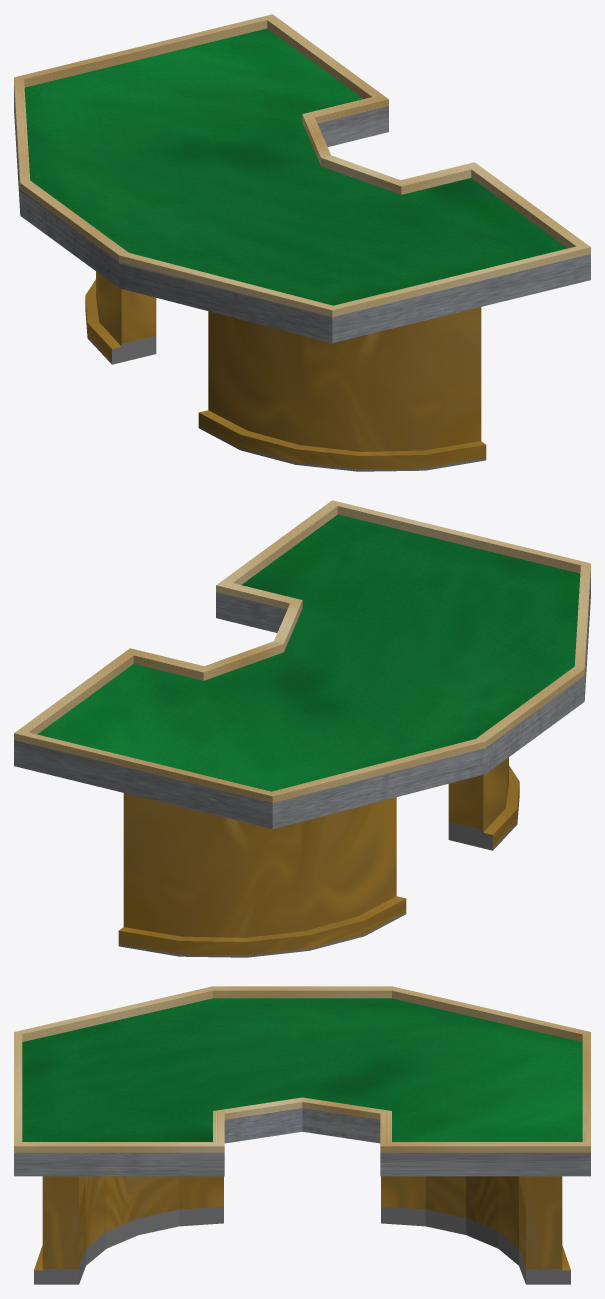
Rendered from GameTable.fbx.
The picture shows the model from 3 angles, top to bottom: view 1: azimuth 30°, elevation 25°; view 2: azimuth 150°, elevation 25°; view 3: azimuth 270°, elevation 25°; orthographic projection. The views are drawn at different scales.
Parts seen in each view (by area): view 1: TableTop, TableLegs; view 2: TableTop, TableLegs; view 3: TableTop, TableLegs.
Part boxes in pixels (left/top/right/bottom): TableTop: left=14, top=14, right=590, bottom=343; TableLegs: left=85, top=271, right=486, bottom=471; TableTop: left=14, top=500, right=590, bottom=829; TableLegs: left=118, top=757, right=519, bottom=957; TableTop: left=14, top=986, right=590, bottom=1176; TableLegs: left=34, top=1176, right=570, bottom=1284.
Bounding box in the file's own units: 10.34 × 5.41 × 15.75.
